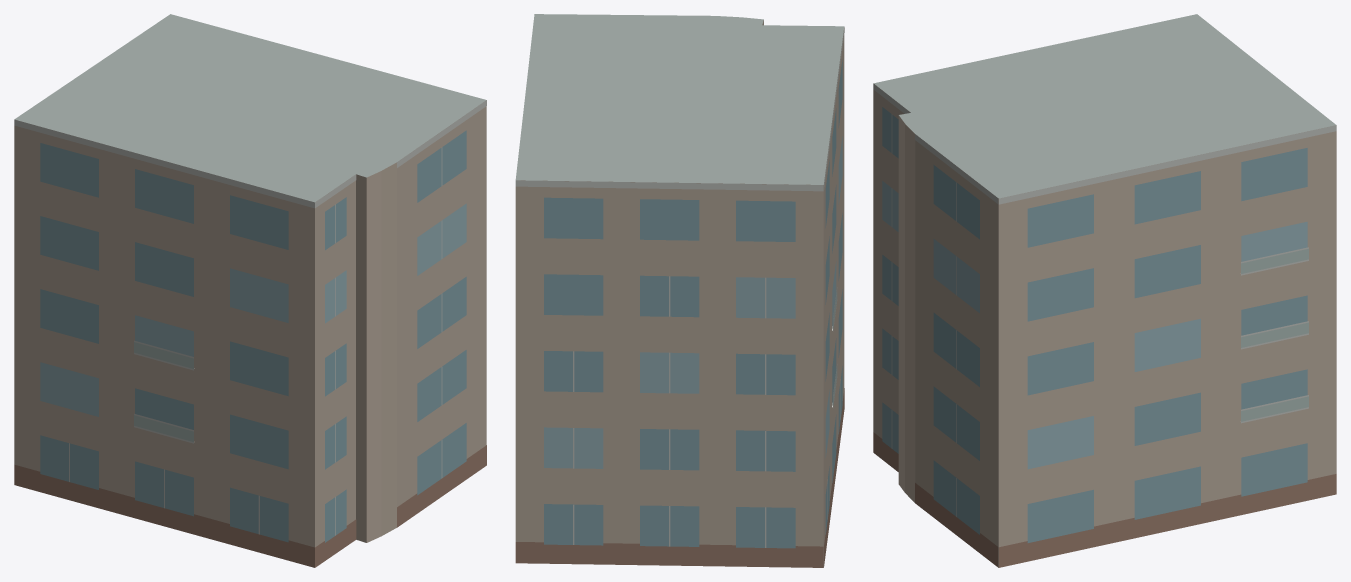
Rendered from survey-upis-32978089.glb.
3 views of the same model, side by side, from view 1: azimuth 30°, elevation 25°; view 2: azimuth 150°, elevation 25°; view 3: azimuth 270°, elevation 25° (orthographic). The views are drawn at different scales.
Parts seen in each view (by area): view 1: survey-upis-32978089.tmp; view 2: survey-upis-32978089.tmp; view 3: survey-upis-32978089.tmp.
Part boxes in pixels (bbox=[...]): survey-upis-32978089.tmp: bbox=[14, 14, 486, 567]; survey-upis-32978089.tmp: bbox=[515, 14, 844, 567]; survey-upis-32978089.tmp: bbox=[873, 14, 1336, 567].
Size of the model in its own units: 15.84 by 14.77 by 16.79.
